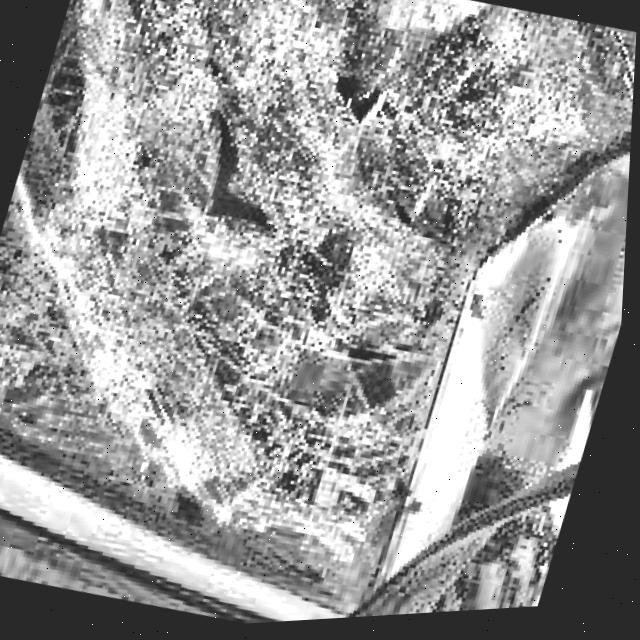glass_shatter: (39, 264, 386, 570), (141, 51, 337, 294), (296, 4, 451, 190)
